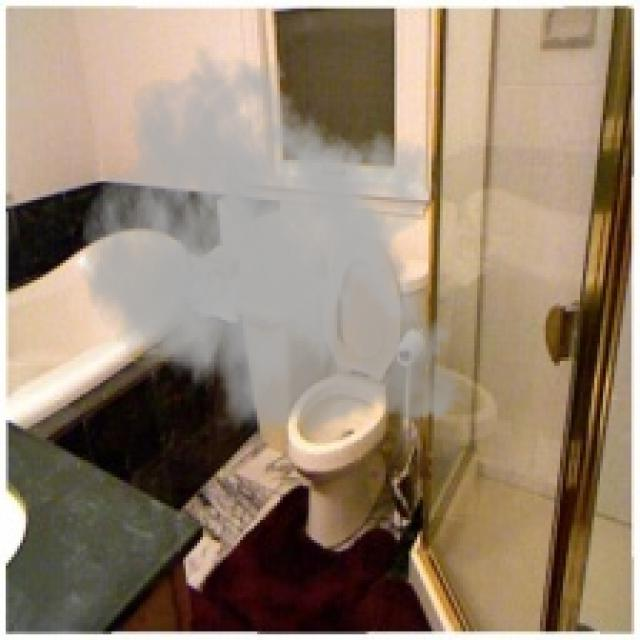smoke: (80, 43, 477, 446)
